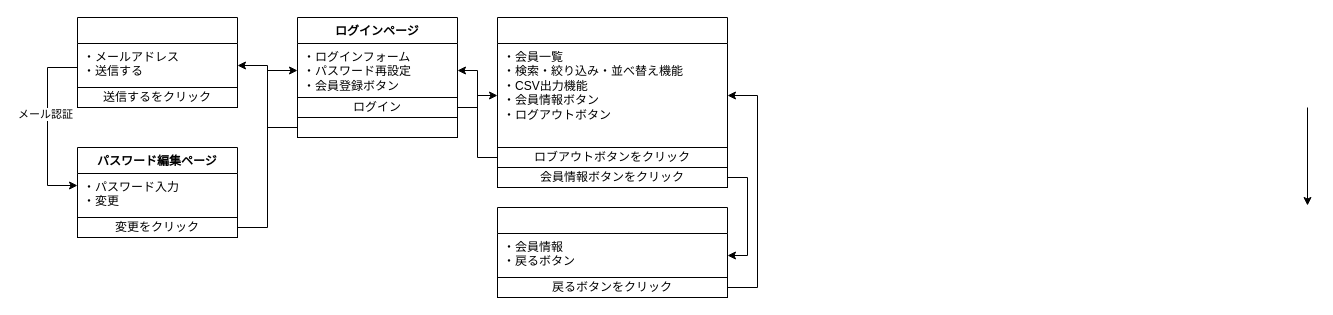
Image size: 1333x315. Some labels were removed from this diagram. The box of each missing label's shape, as (x1, y1, x2, y2) in pixels:
パスワード再設定をクリック: (296, 116, 458, 138)
パスワード再設定ページ: (76, 16, 238, 108)
会員情報編集ページ: (496, 206, 728, 298)
管理者メニュー: (496, 16, 728, 188)
